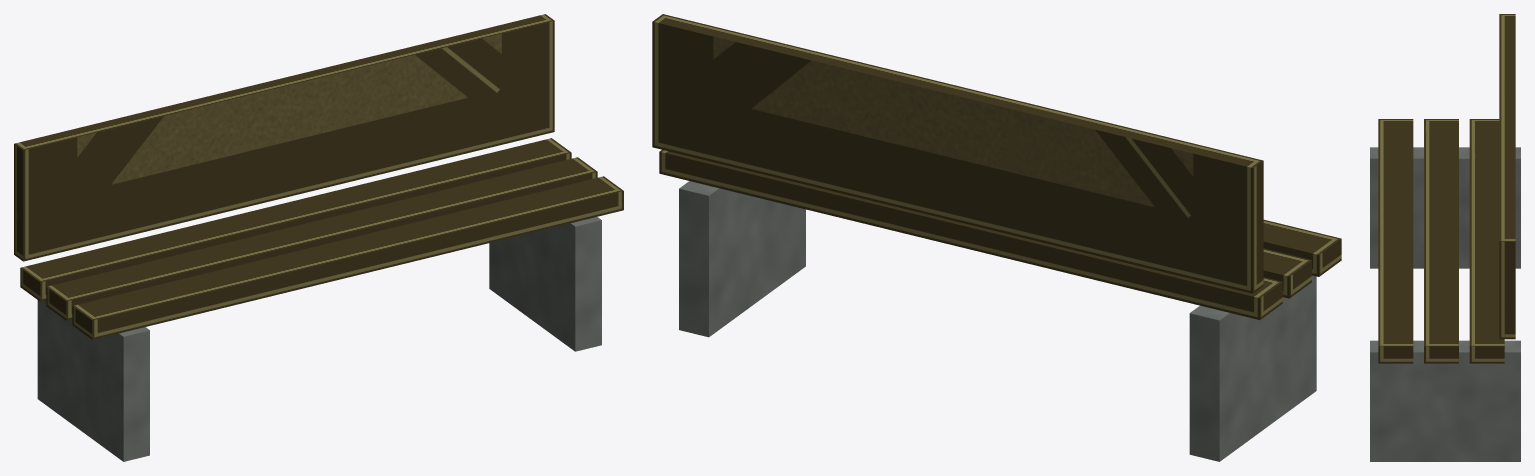
The model's file is bench.glb.
3 renders of one model, left to right at view 1: azimuth 30°, elevation 25°; view 2: azimuth 150°, elevation 25°; view 3: azimuth 270°, elevation 25°, orthographic. The views are drawn at different scales.
Visible parts, largest first — view 1: bench; view 2: bench; view 3: bench.
Part boxes in pixels (box(x1,y1,x2,y2)): bench: box(14, 14, 623, 461); bench: box(652, 14, 1341, 461); bench: box(1370, 14, 1520, 461).
Size of the model in its own units: 2 by 0.95 by 0.56.
2 materials, 2 textured.
